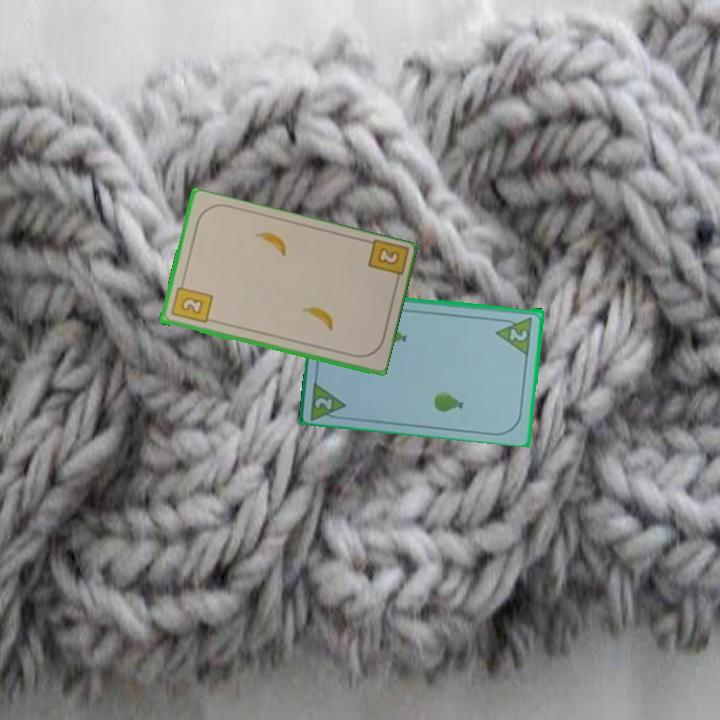2b: (167, 278, 215, 327), (364, 237, 409, 289)
2p: (307, 376, 350, 422), (506, 324, 530, 343)
